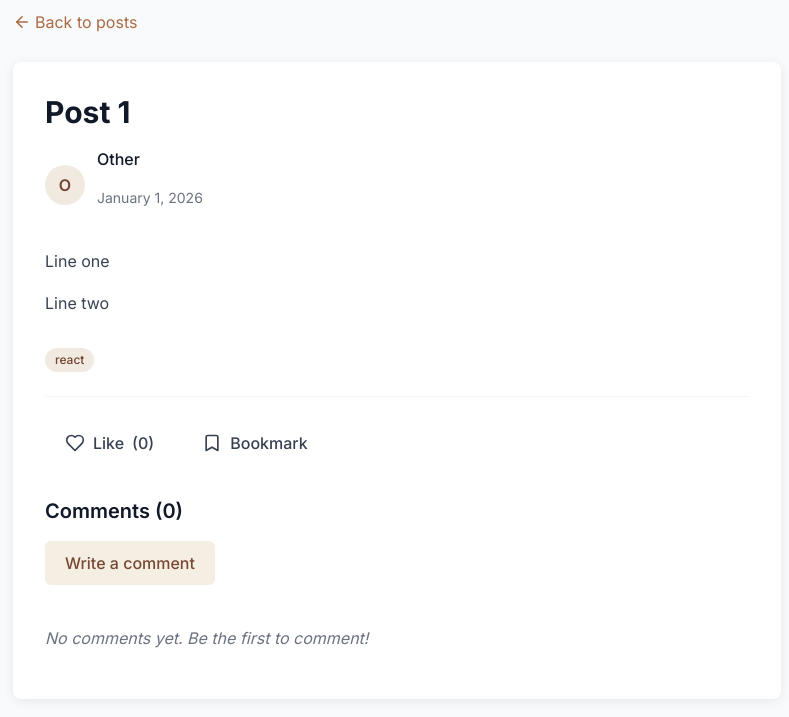
Test: BlogPost › toggles like using the server's likes list
The image size is (789, 717).
Check: the heading "Post 1" is shown, box left=45, top=94, right=130, bottom=130
Click the button "Like (0)" at (110, 443), box left=45, top=421, right=174, bottom=465
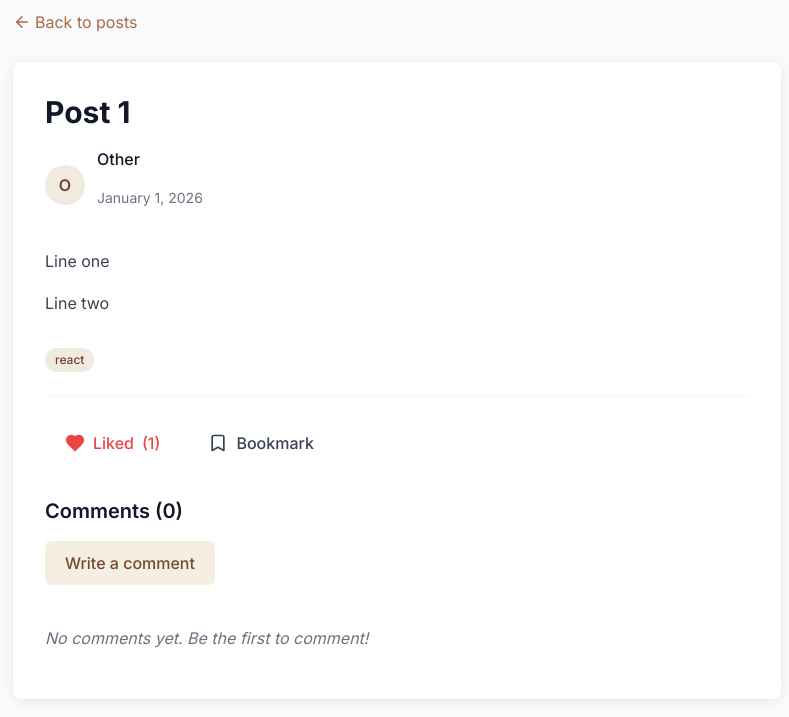
Check: the text "Liked" is shown, box left=93, top=431, right=134, bottom=455
Check: the text "(1)" is shown, box left=142, top=431, right=160, bottom=455
Click the button "Liked (1)" at (113, 443), box left=45, top=421, right=180, bottom=465
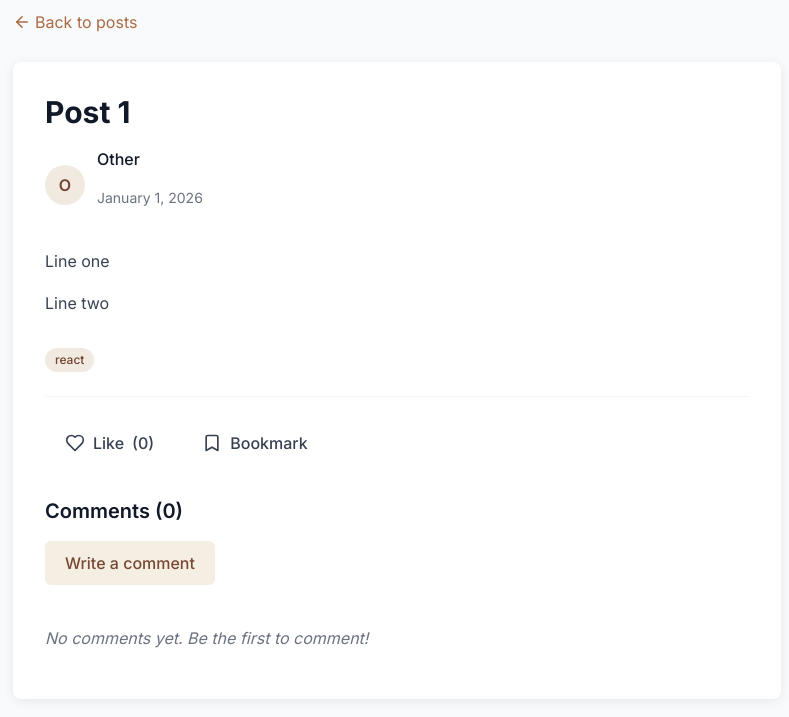
Check: the text "Like" is shown, box left=93, top=431, right=124, bottom=455
Check: the text "(0)" is shown, box left=132, top=431, right=154, bottom=455
